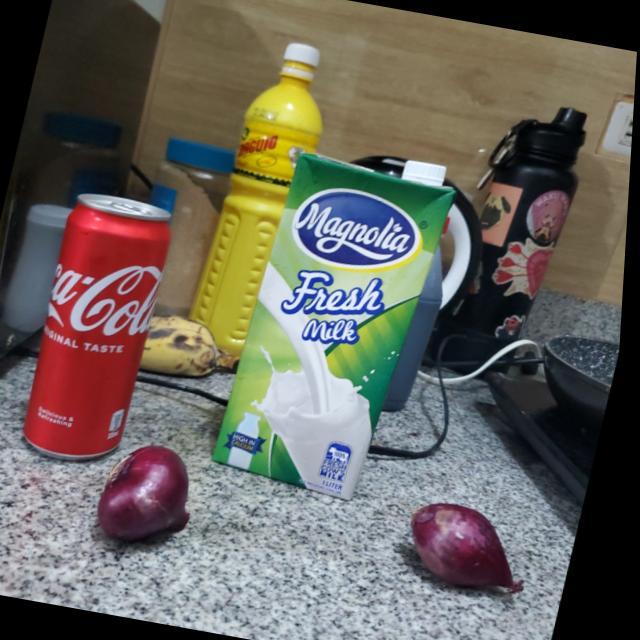coke: (14, 189, 183, 466)
milk: (210, 134, 468, 504)
onion: (400, 495, 549, 603), (97, 437, 212, 548)
